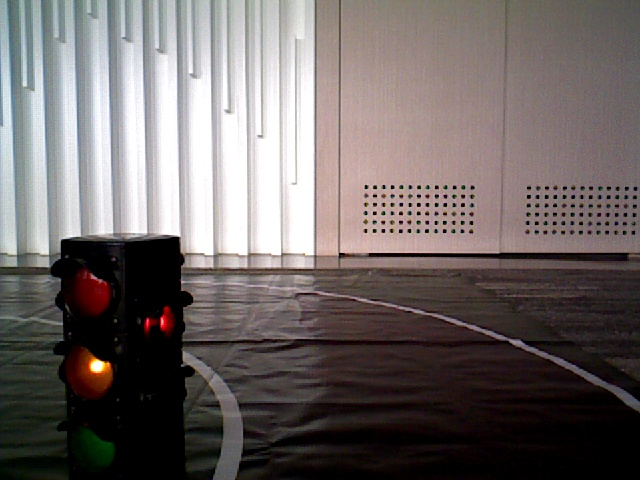yellow: (58, 248, 136, 469)
